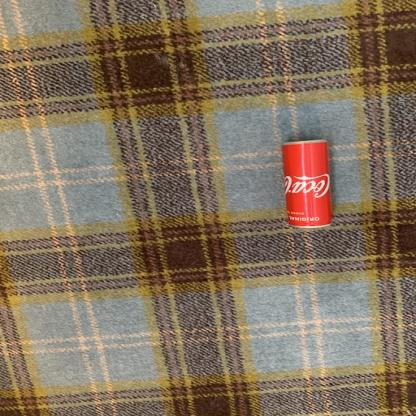trash: (278, 140, 335, 229)
